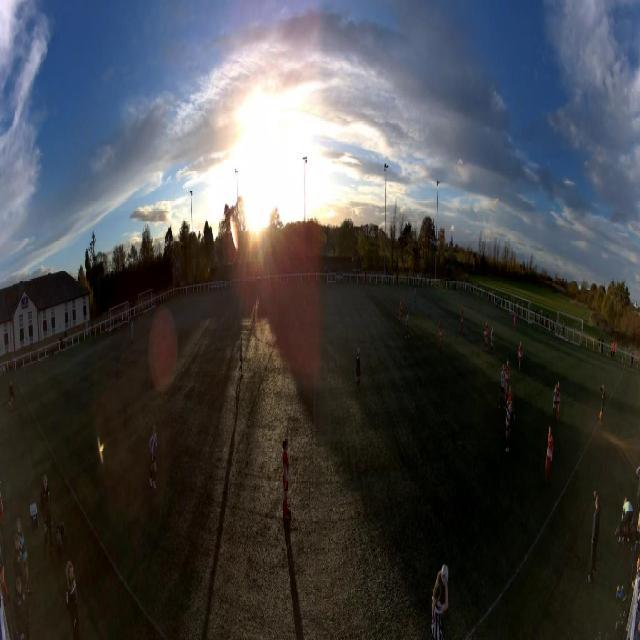ball: (441, 564, 449, 584)
player: (280, 436, 292, 523), (149, 426, 158, 491), (545, 427, 554, 485), (504, 402, 514, 451), (500, 364, 508, 406), (356, 344, 362, 390), (238, 334, 244, 376), (505, 361, 511, 397), (508, 385, 514, 413), (557, 381, 561, 421), (484, 321, 489, 352), (518, 343, 523, 373), (553, 385, 557, 421), (438, 319, 442, 351), (398, 298, 403, 322), (406, 311, 410, 339), (491, 327, 494, 354), (461, 311, 464, 333), (131, 321, 134, 342), (514, 314, 517, 332), (304, 299, 306, 320), (414, 288, 416, 304)
